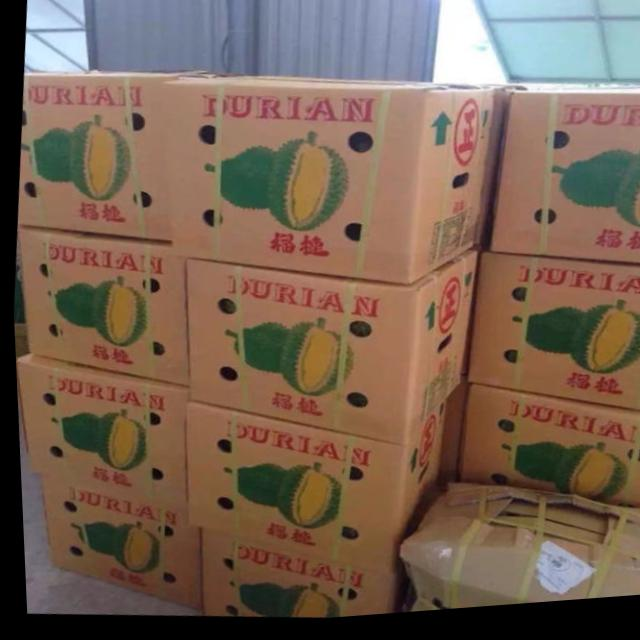box: (164, 79, 494, 291), (184, 257, 475, 451), (183, 403, 444, 577), (15, 72, 231, 245), (463, 258, 640, 420), (482, 94, 640, 275), (15, 228, 185, 388), (13, 355, 185, 513), (450, 389, 640, 515), (34, 477, 196, 611), (193, 526, 406, 621)
